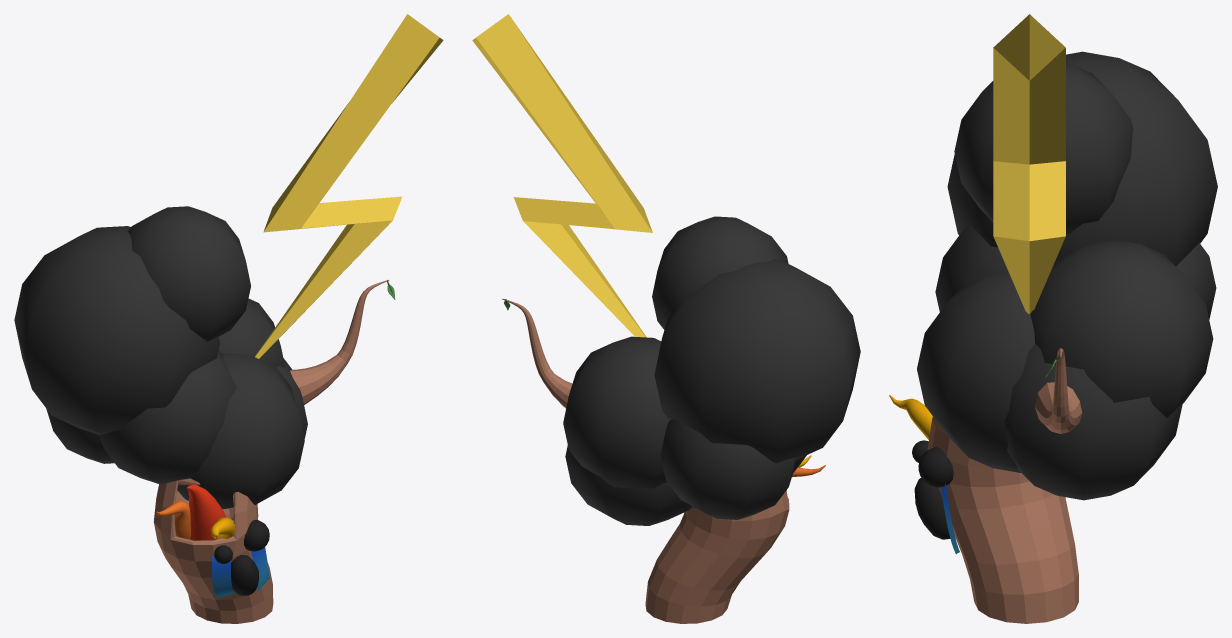
The model's file is TreeMagic3.glb.
3 renders of one model, left to right at view 1: azimuth 30°, elevation 25°; view 2: azimuth 150°, elevation 25°; view 3: azimuth 270°, elevation 25°, orthographic. The views are drawn at different scales.
Parts seen in each view (by area): view 1: Smoke_SphereEmo.002, Lightning_Emo, Smoke_SphereEmo.003, Smoke_SphereEmo.004, Smoke_SphereEmo.001, Emo_Trunk_mesh, Smoke_SphereEmo, Branche_Emo, Smoke_SphereEmo.005, FireEmo, MouthEmo, Fire.001Emo (+3 smaller); view 2: Smoke_SphereEmo.002, Lightning_Emo, Smoke_SphereEmo, Emo_Trunk_mesh, Smoke_SphereEmo.005, Smoke_SphereEmo.004, Smoke_SphereEmo.006, Branche_Emo; view 3: Smoke_SphereEmo, Smoke_SphereEmo.002, Lightning_Emo, Emo_Trunk_mesh, Smoke_SphereEmo.003, Smoke_SphereEmo.006, Smoke_SphereEmo.004, Smoke_SphereEmo.001, Branche_Emo, Smoke_SphereEmo.005, MouthEmo, EyeBigEmo (+1 smaller).
Boxes of the visible parts, <box> form: Smoke_SphereEmo.002: <box>14,226,219,435</box>; Lightning_Emo: <box>255,14,443,358</box>; Smoke_SphereEmo.003: <box>177,353,304,509</box>; Smoke_SphereEmo.004: <box>127,206,250,341</box>; Smoke_SphereEmo.001: <box>100,350,236,483</box>; Emo_Trunk_mesh: <box>153,478,273,623</box>; Smoke_SphereEmo: <box>218,298,285,368</box>; Branche_Emo: <box>290,279,389,404</box>; Smoke_SphereEmo.005: <box>46,409,114,463</box>; FireEmo: <box>186,484,226,540</box>; MouthEmo: <box>231,555,258,595</box>; Fire.001Emo: <box>156,501,190,539</box>; Smoke_SphereEmo.002: <box>654,258,860,462</box>; Lightning_Emo: <box>472,14,652,337</box>; Smoke_SphereEmo: <box>563,336,669,489</box>; Emo_Trunk_mesh: <box>645,490,789,623</box>; Smoke_SphereEmo.005: <box>660,418,796,519</box>; Smoke_SphereEmo.004: <box>652,216,788,329</box>; Smoke_SphereEmo.006: <box>565,445,691,525</box>; Branche_Emo: <box>502,298,572,408</box>; Smoke_SphereEmo: <box>1030,240,1213,417</box>; Smoke_SphereEmo.002: <box>947,51,1217,266</box>; Lightning_Emo: <box>993,14,1065,314</box>; Emo_Trunk_mesh: <box>927,417,1078,623</box>; Smoke_SphereEmo.003: <box>917,274,1034,472</box>; Smoke_SphereEmo.006: <box>1004,344,1182,500</box>; Smoke_SphereEmo.004: <box>954,63,1133,234</box>; Smoke_SphereEmo.001: <box>935,225,1009,311</box>; Branche_Emo: <box>1034,348,1082,433</box>; Smoke_SphereEmo.005: <box>1176,243,1216,319</box>; MouthEmo: <box>914,477,950,539</box>; EyeBigEmo: <box>918,447,953,487</box>.
Size of the model in its own units: 4.34 by 5.73 by 2.45.
Materials: 10 (1 with a texture image).
